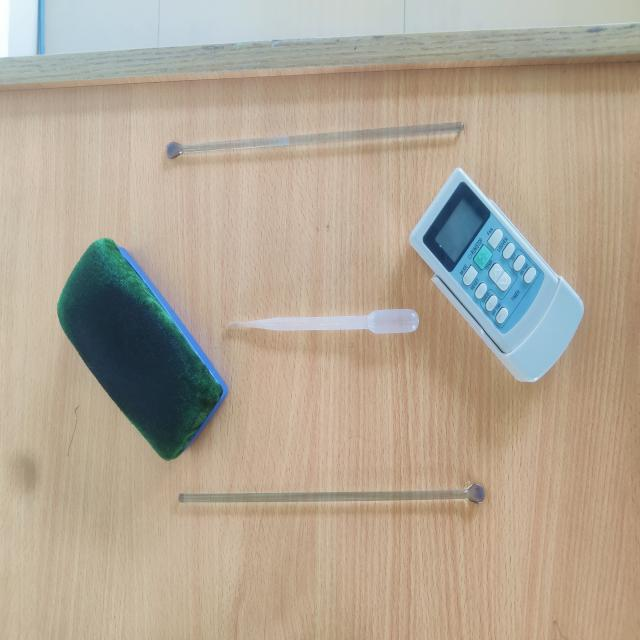Glass_Rod: (151, 431, 506, 555), (146, 86, 488, 188)
Pipette: (203, 282, 442, 383)
